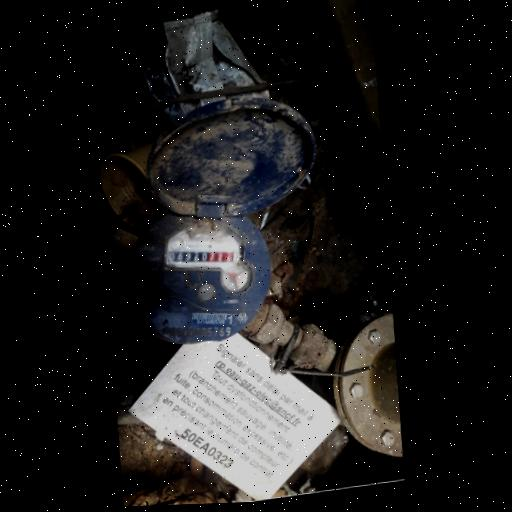0: (198, 250, 209, 263), (167, 250, 177, 262)
2: (215, 251, 225, 264)
6: (174, 249, 186, 263), (221, 251, 233, 263), (190, 251, 201, 263)
7: (206, 250, 217, 262)
9: (183, 251, 193, 263)
border_water_meter_number: (164, 238, 240, 275)
